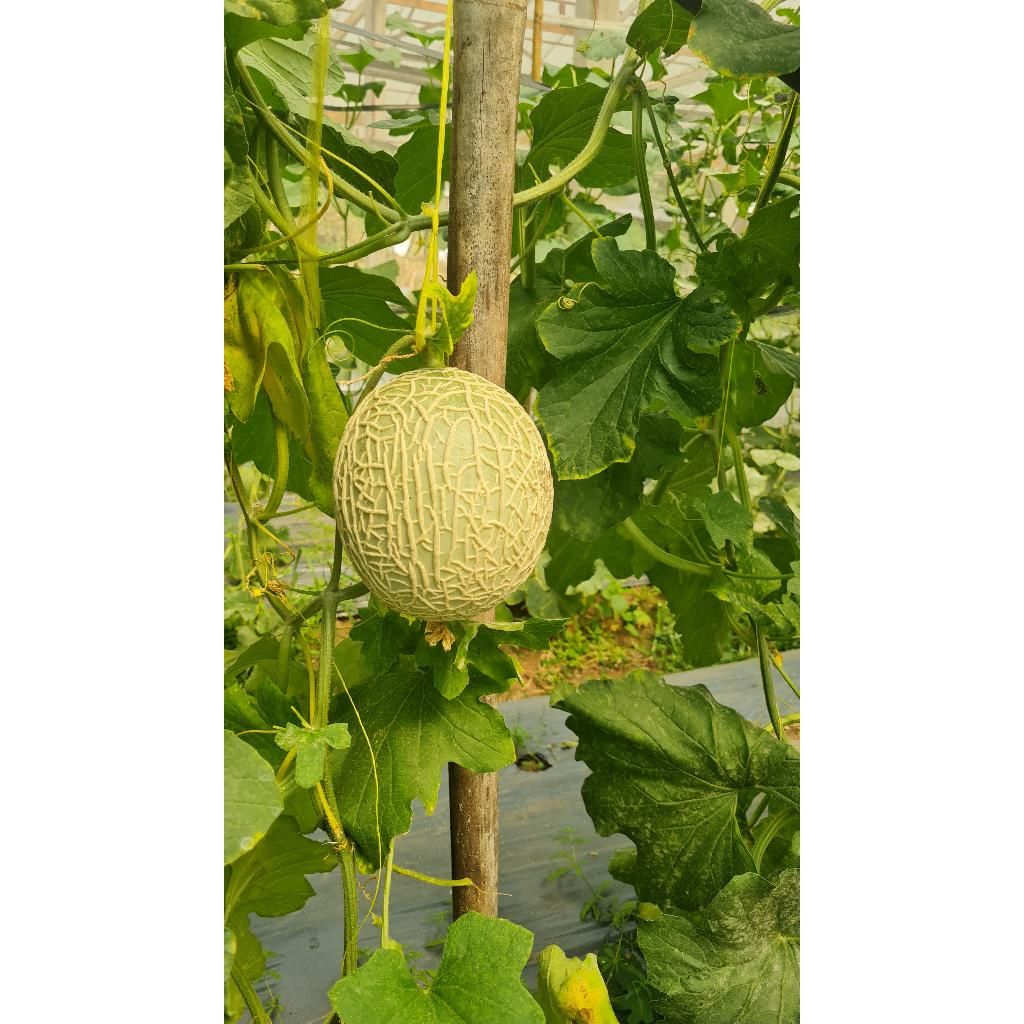melon: (334, 368, 554, 622)
